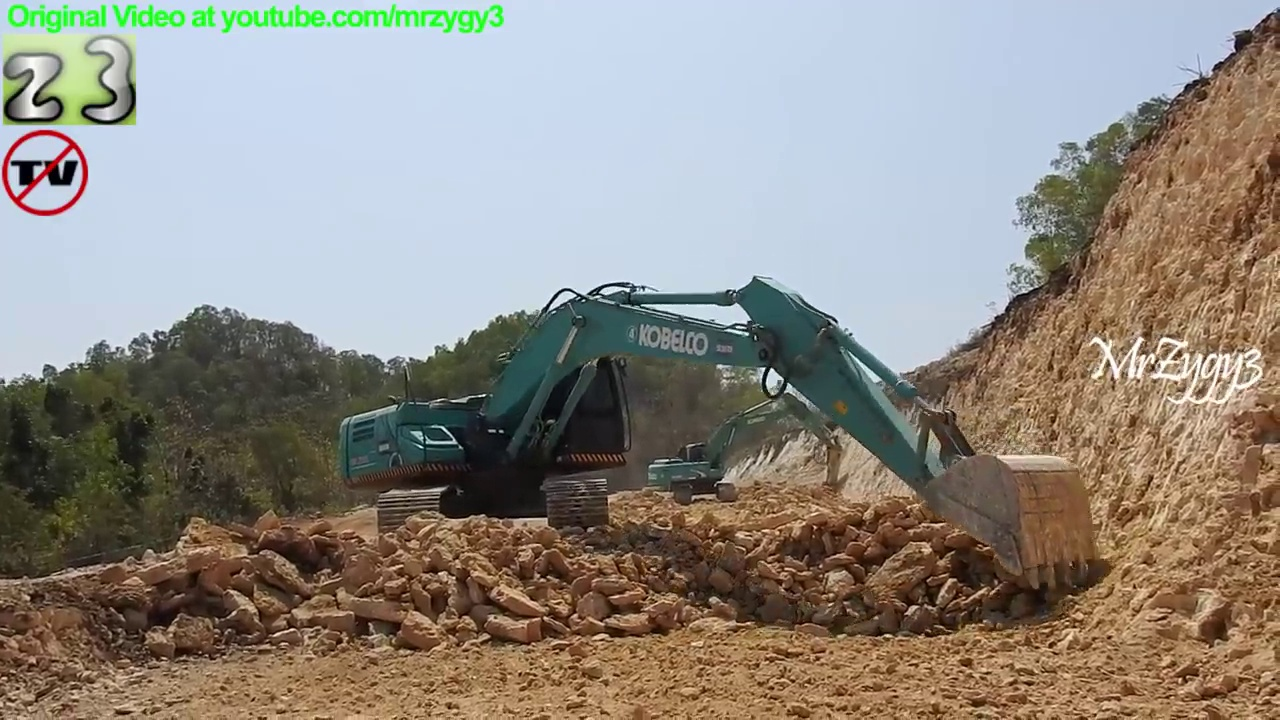excavator: (334, 272, 1102, 595)
excavator breaker: (641, 388, 846, 507)
